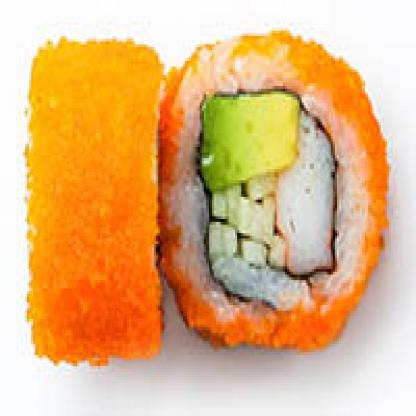masago: (159, 28, 395, 362)
